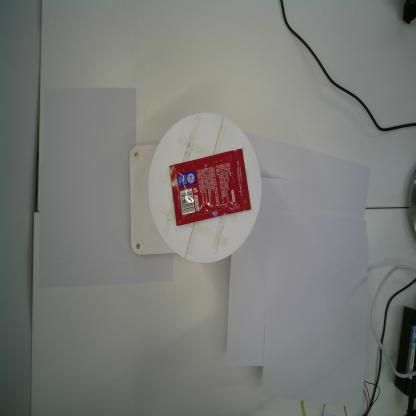Seasoner: (168, 147, 252, 226)
